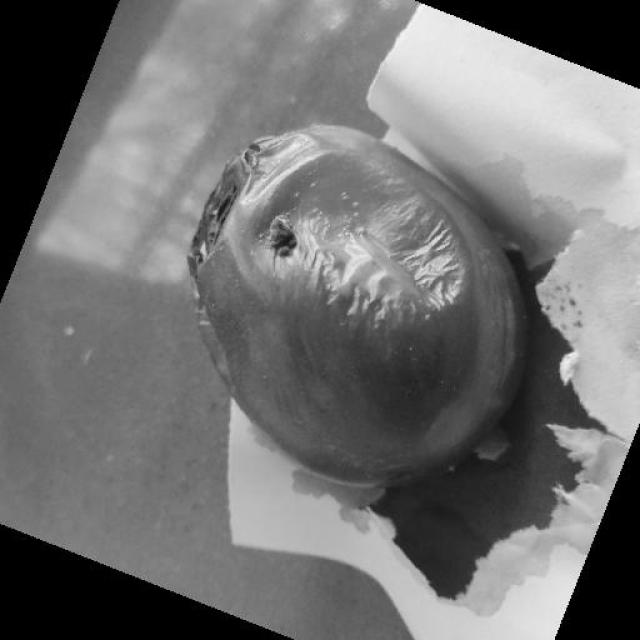Stale_tomato: (192, 127, 520, 485)
